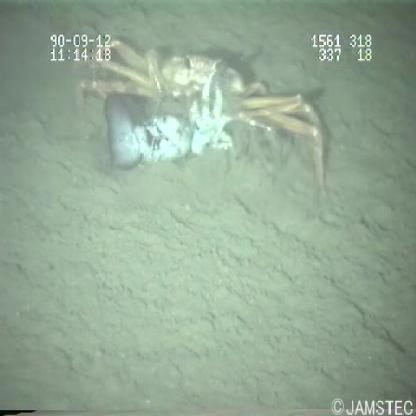Bio: (68, 36, 340, 199)
